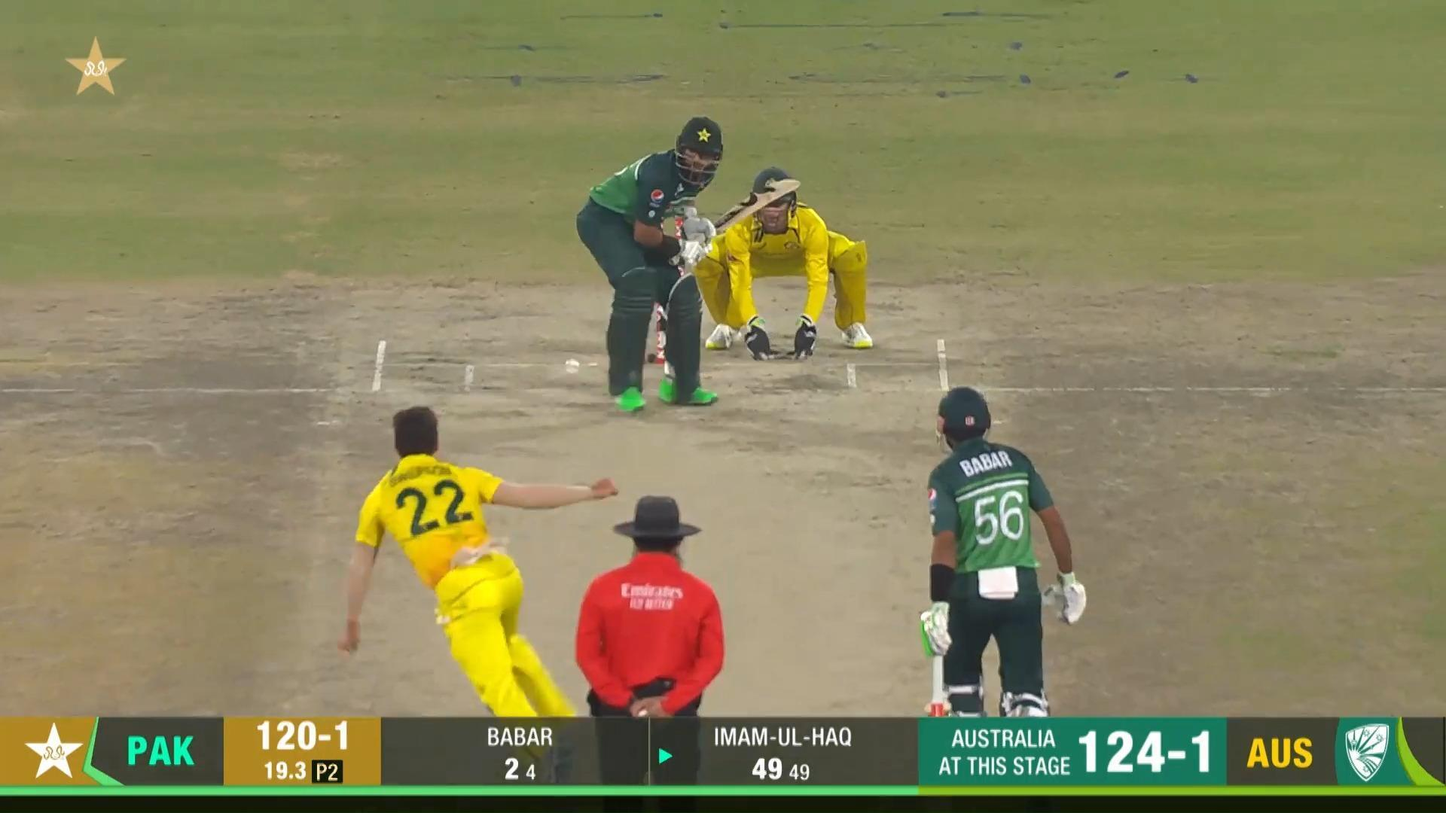BM 1: (576, 116, 802, 414)
BO: (333, 401, 623, 794)
